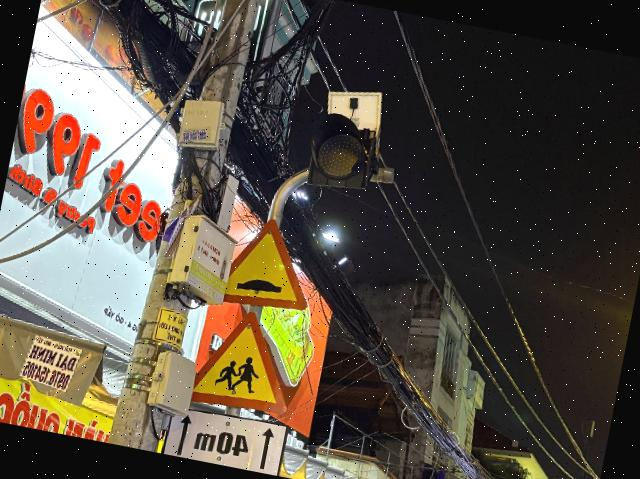duong-co-go-giam-toc: (222, 212, 322, 318)
tre-em-qua-duong: (190, 303, 302, 418)
